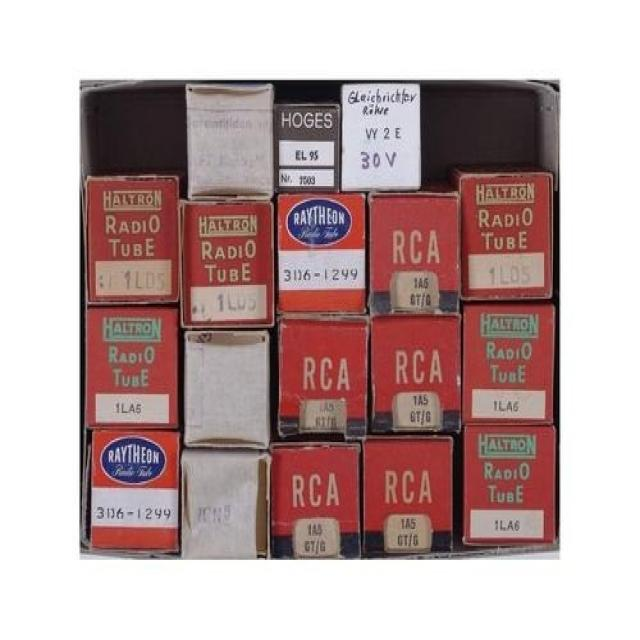box: (453, 162, 552, 302), (453, 423, 556, 545), (177, 200, 274, 328), (274, 313, 368, 443), (84, 177, 180, 304), (459, 299, 554, 424), (85, 302, 178, 429), (177, 328, 275, 448), (272, 193, 368, 314), (365, 191, 459, 313), (368, 313, 461, 435), (269, 441, 363, 559), (361, 434, 453, 554), (92, 429, 180, 553), (185, 84, 274, 201), (180, 447, 271, 560), (341, 85, 421, 194), (272, 104, 341, 194)
